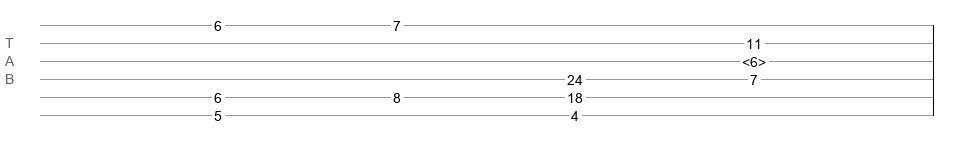11: (746, 36, 762, 46)
18: (567, 90, 583, 100)
24: (567, 72, 583, 82)
4: (571, 108, 579, 118)
5: (214, 108, 222, 118)
6: (214, 18, 222, 28), (214, 90, 222, 100)
7: (393, 18, 401, 28), (750, 72, 758, 82)
8: (393, 90, 401, 100)
harmonic: (742, 54, 766, 64)
